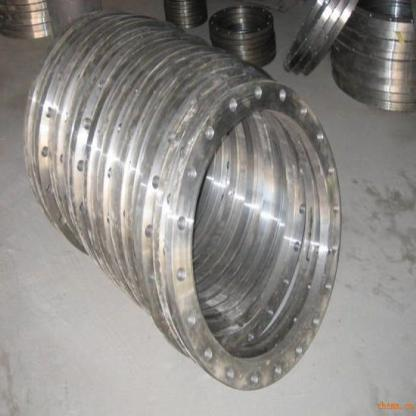FOD: (162, 76, 346, 396)
